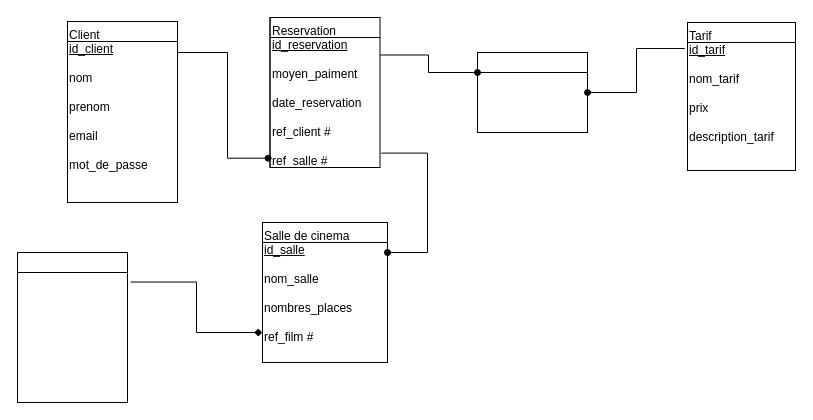
Some shapes in this 813 by 420 pixel diagram are drawn without their labels. The centre of each missing label's shape, as x and y in pixels:
"Correspond nombre_places ref_reservation # ref_tarif #" goes at point 532,92.
"Film id_film titre année_sortie description" goes at point 72,327.
